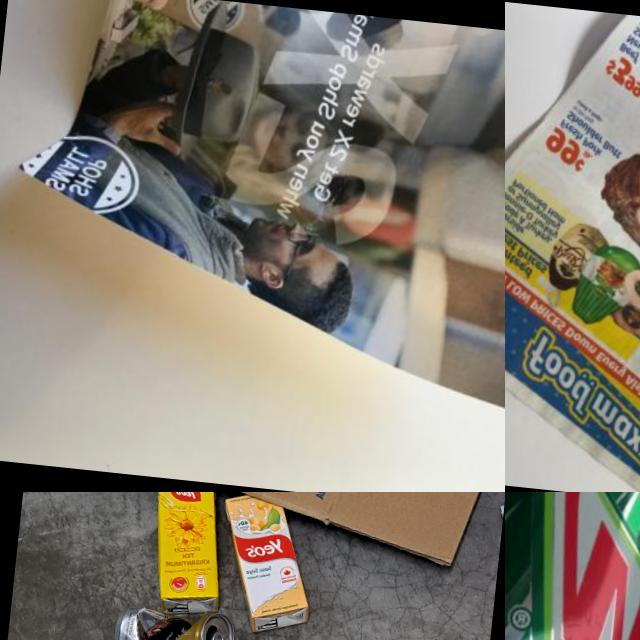aba de lata: (211, 632, 230, 640)
caixinha: (211, 492, 320, 637), (144, 492, 231, 622)
lata: (505, 492, 640, 640), (110, 601, 237, 640)
papel: (4, 0, 505, 417), (505, 0, 640, 492)
papelão: (19, 492, 505, 576)
